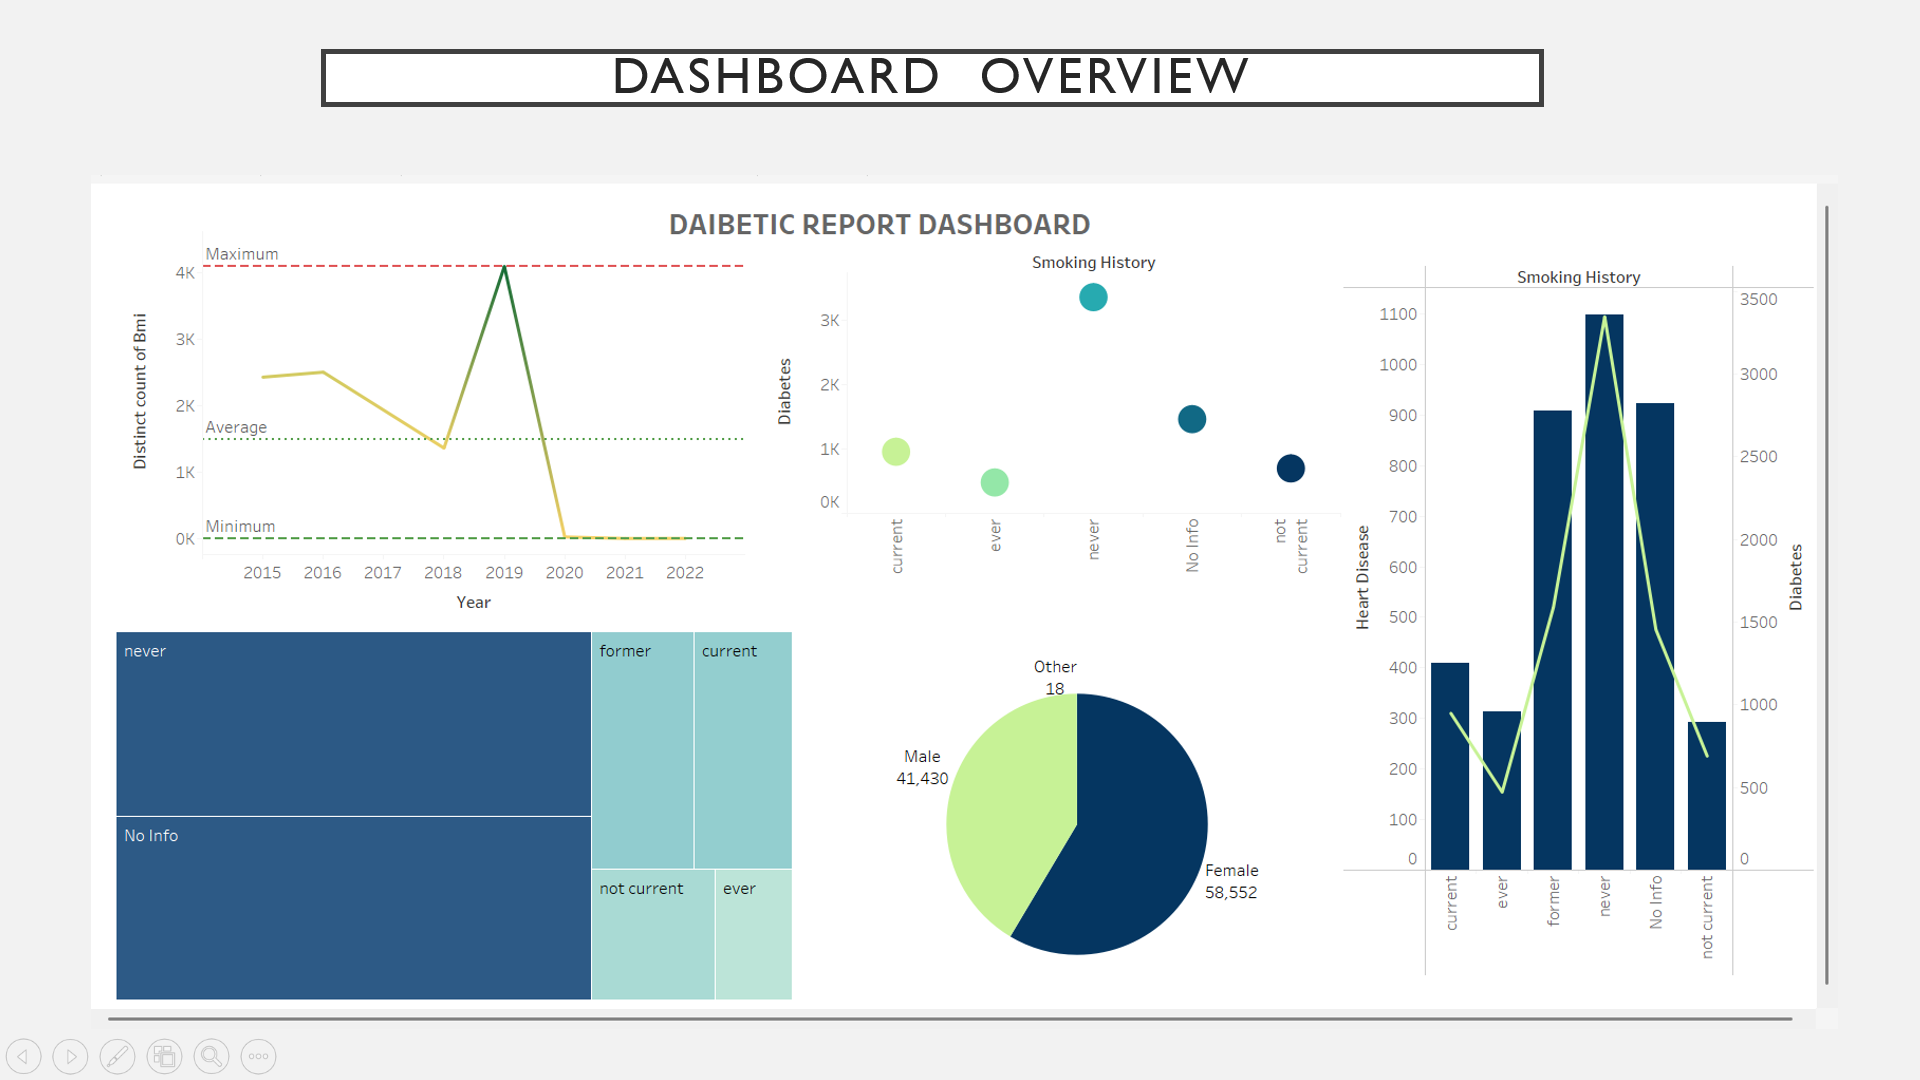

What the dashboard file says about the page in this screenshot:
{"tool":"tableau","page":{"name":"DIABETIC REPORT DASHBOARD","canvas":[1000,1000],"units":"permille","ordinal":0},"visuals":[{"type":"text","box":[334.8,15.4,253.5,65.3]},{"type":"worksheet","title":" LINE CHART","mark":"Automatic","rows":["bmi"],"cols":["year"],"box":[20.2,57.6,361,472.5]},{"type":"worksheet","title":"SMOKING HISTORY","mark":"Pie","rows":["diabetes"],"cols":["smoking_history"],"box":[392.8,82,332.9,423.8]},{"type":"worksheet","title":"BAR","mark":"Bar","rows":["heart_disease","diabetes"],"cols":["smoking_history"],"box":[726.9,99.9,272.4,861.7]},{"type":"worksheet","title":"HEAT MAP","mark":"Automatic","box":[14.7,537.8,395.9,457.1]},{"type":"worksheet","title":"PIE CHART","mark":"Pie","box":[430.1,569.8,285.9,414.9]}]}

Visuals, with their boxes on the dashboard's canvas, which has no fixed pixel size, in thousandths of its width and height (x1, y1, x2, y2). These are canvas units, not pixel positions in the 1920x1080 screenshot, which may show the page scaled, cropped or inside an application window:
text: bbox=[335, 15, 588, 81]
" LINE CHART" worksheet: bbox=[20, 58, 381, 530]
"SMOKING HISTORY" worksheet (Pie marks): bbox=[393, 82, 726, 506]
"BAR" worksheet (Bar marks): bbox=[727, 100, 999, 962]
"HEAT MAP" worksheet: bbox=[15, 538, 411, 995]
"PIE CHART" worksheet (Pie marks): bbox=[430, 570, 716, 985]
